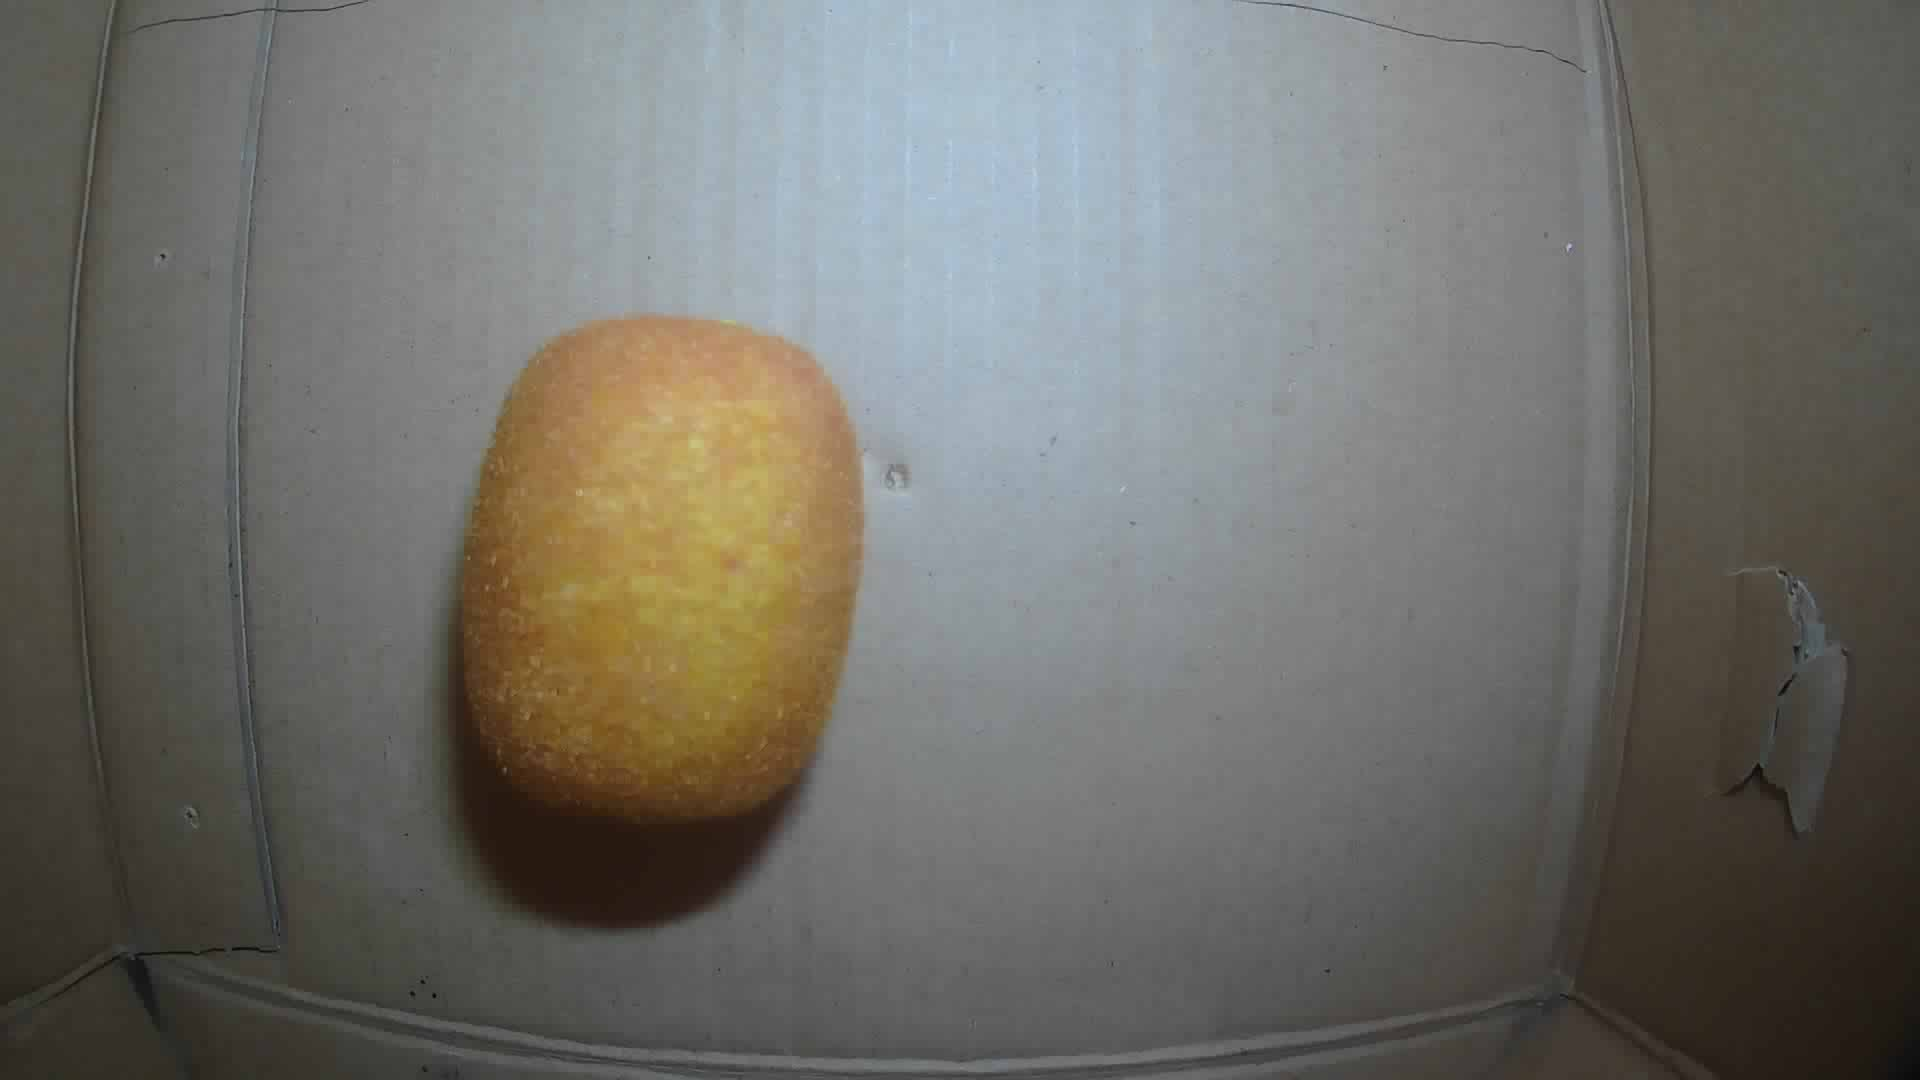kiwi: (455, 315, 866, 819)
